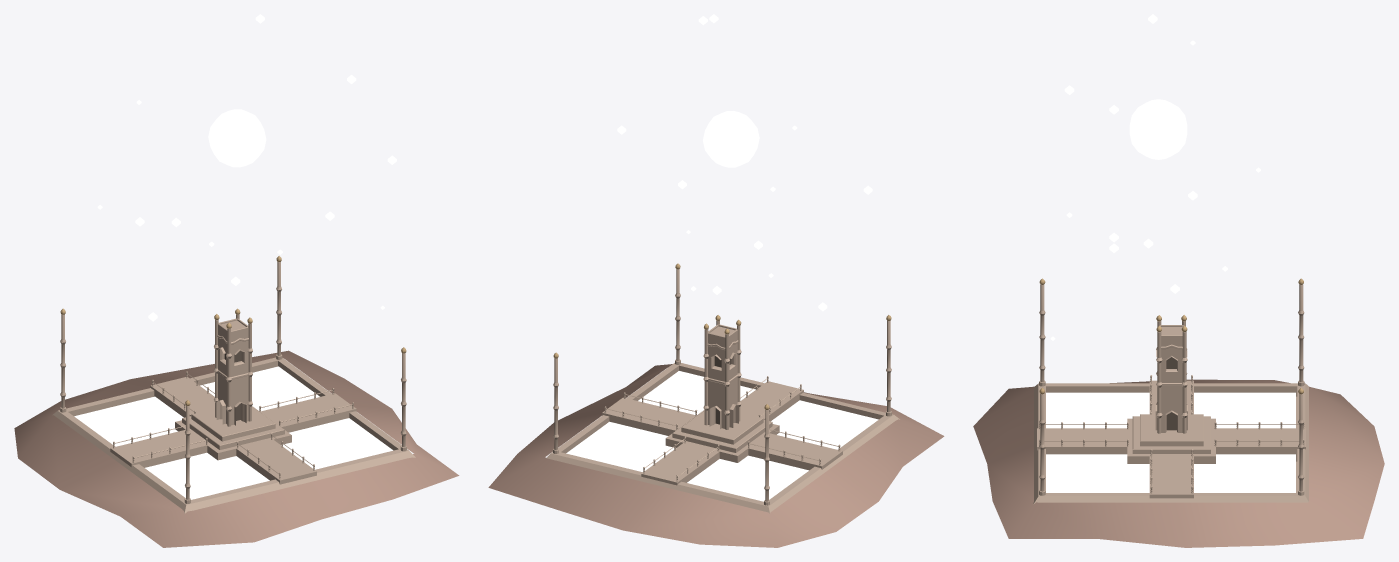
The model's file is Moon_dungeon.glb.
The picture shows the model from 3 angles, left to right: view 1: azimuth 30°, elevation 25°; view 2: azimuth 150°, elevation 25°; view 3: azimuth 270°, elevation 25°; orthographic projection. The views are drawn at different scales.
Parts seen in each view (by area): view 1: Object_2, Object_8, Object_4, Object_9, Object_3, Object_6; view 2: Object_2, Object_8, Object_4, Object_9, Object_3, Object_6; view 3: Object_2, Object_8, Object_4, Object_9, Object_3, Object_6.
Part boxes in pixels (x1,y1,x2,y2): Object_2: (14,350,459,547); Object_8: (52,292,415,513); Object_4: (74,366,393,499); Object_9: (60,262,406,503); Object_3: (208,109,266,167); Object_6: (97,14,396,321); Object_2: (488,364,944,547); Object_8: (546,320,899,513); Object_4: (566,371,878,501); Object_9: (553,269,891,505); Object_3: (703,111,759,167); Object_6: (617,14,872,311); Object_2: (973,379,1384,547); Object_8: (1033,321,1309,504); Object_4: (1046,392,1295,492); Object_9: (1037,284,1305,495); Object_3: (1129,99,1187,159); Object_6: (1050,14,1260,340).
Bounding box in the file's own units: 17.92 × 22.8 × 18.51.
